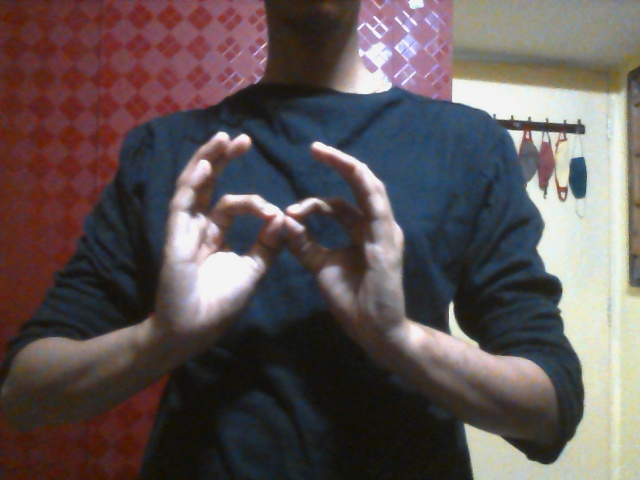B: (153, 127, 424, 372)
